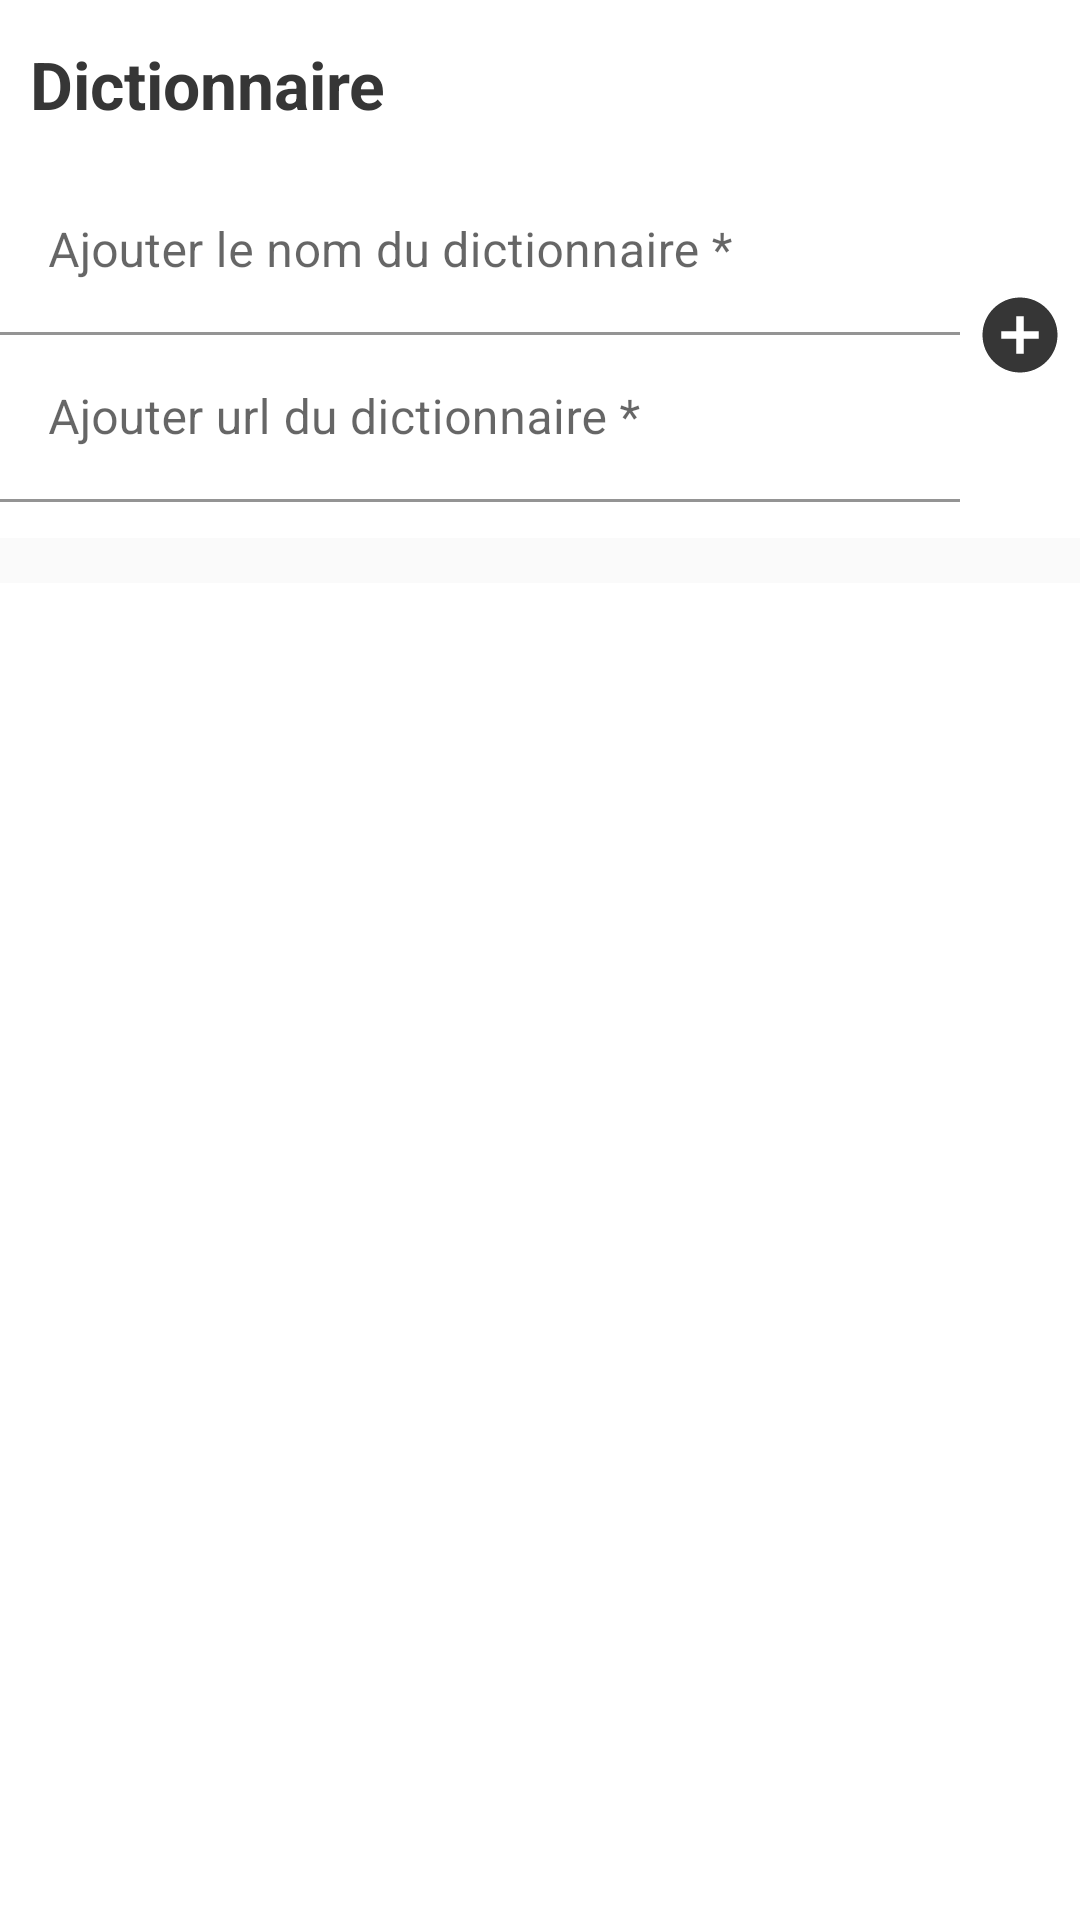

Where icons sit on this 1080px x 1920px app screen, as box=[x1, y1, x2, y2]:
add circle: box=[982, 297, 1058, 373]
